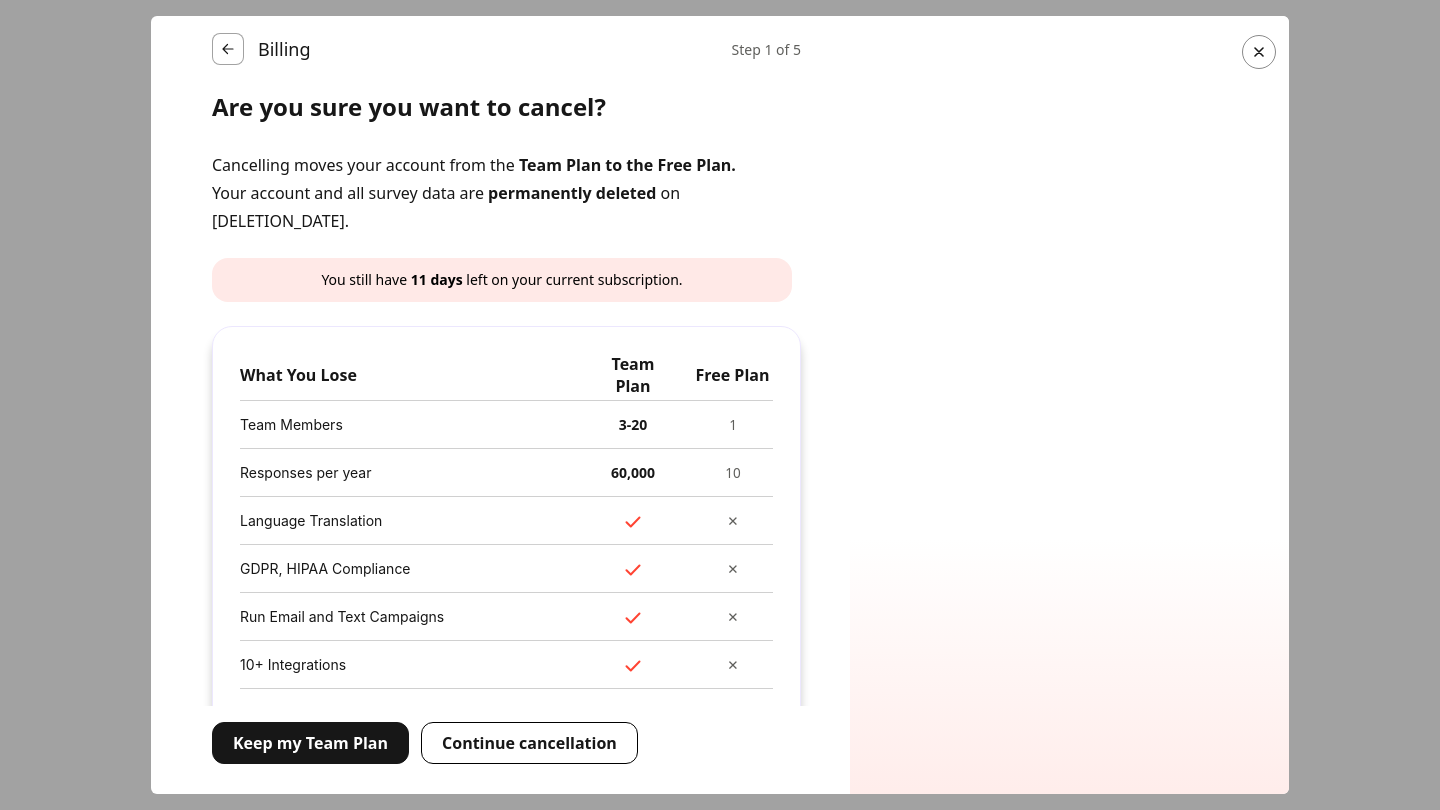
Test: CancellationModal › Flow A: claiming the first offer shows the exact price and term
Later steps or results of the test are not shown.
Step 1. Click the button "Continue cancellation" → (529, 743), box x1=421 y1=722 x2=638 y2=764
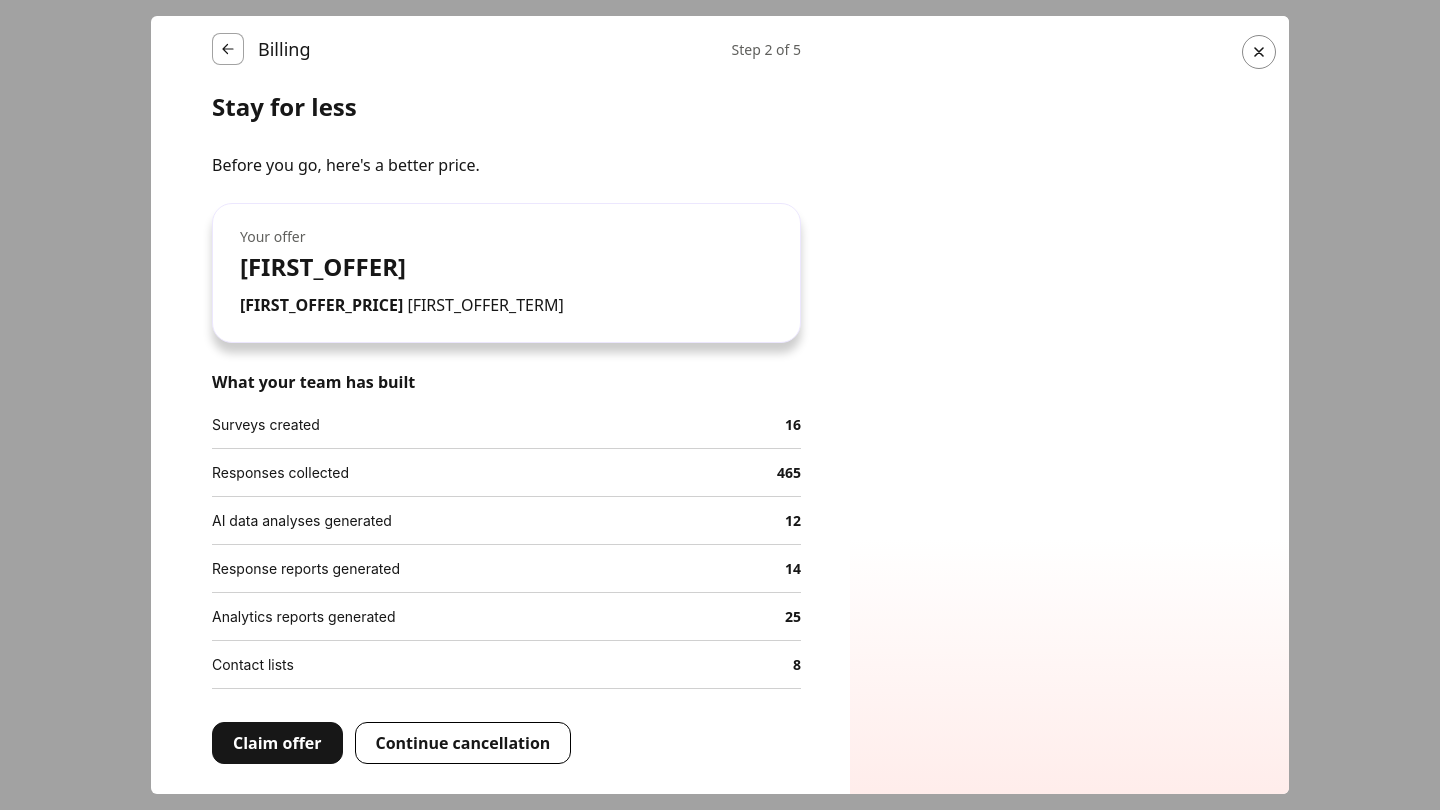
Step 2. Click the button "Claim offer" → (277, 743), box x1=212 y1=722 x2=342 y2=764
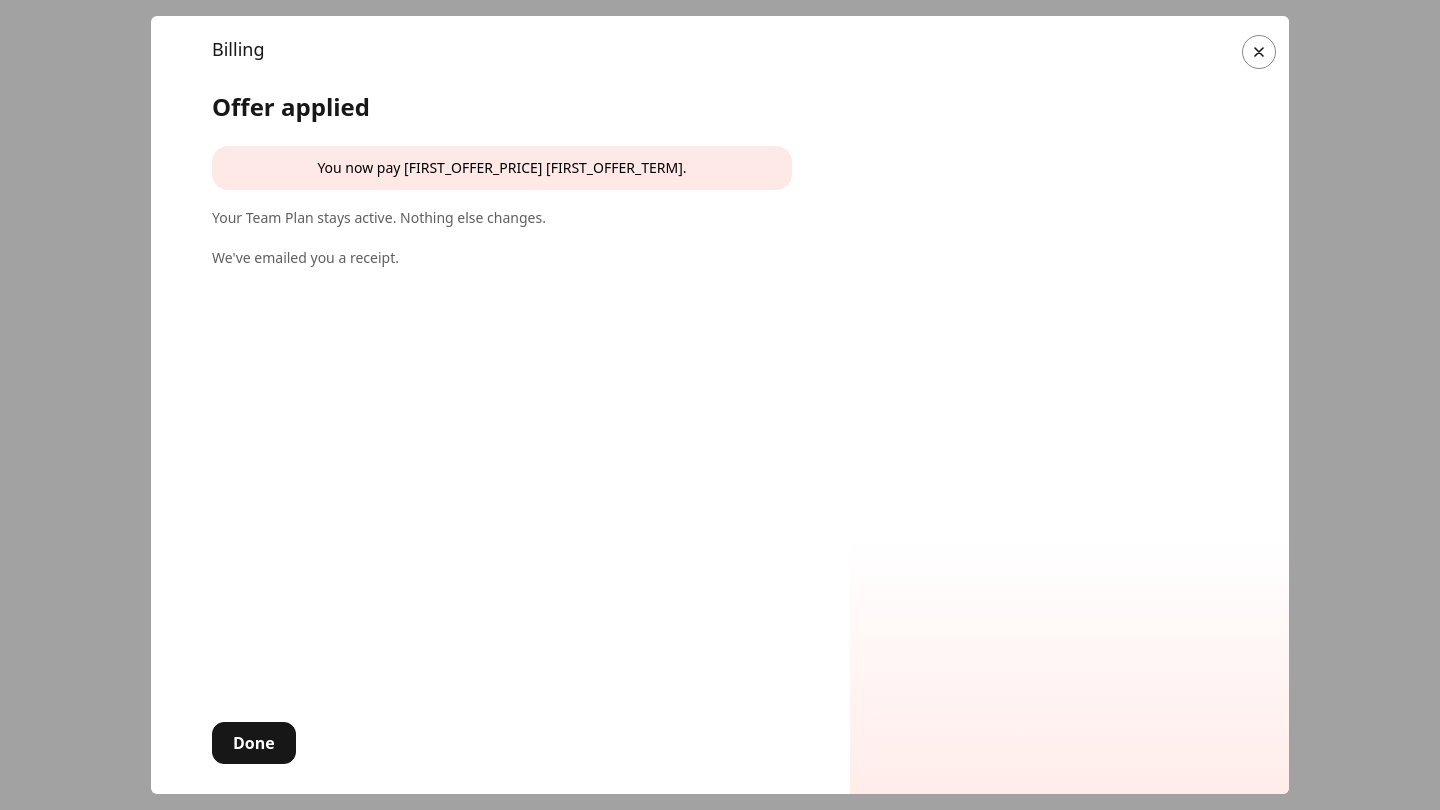
Expected: the heading "Offer applied" is shown, x1=212 y1=90 x2=370 y2=123
Expected: the text "You now pay [FIRST_OFFER_PRICE] [FIRST_OFFER_TERM]." is shown, x1=212 y1=146 x2=792 y2=190
